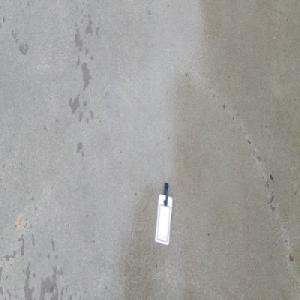LuggageTag: (154, 181, 173, 247)
